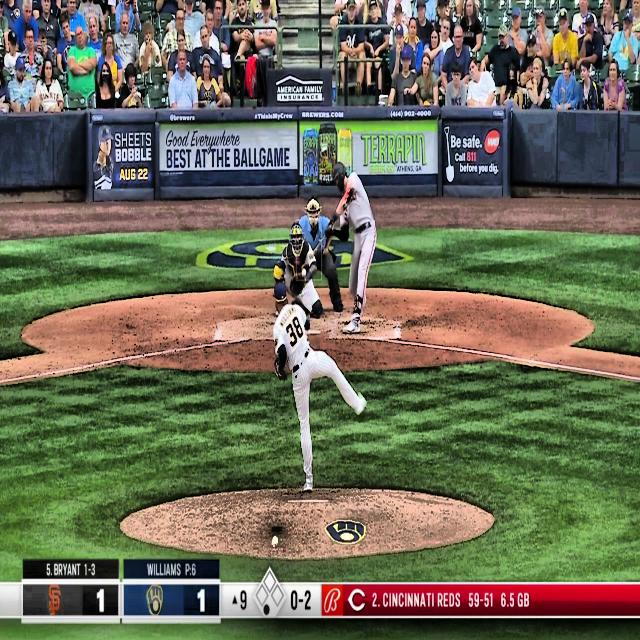baseball: (301, 268, 307, 278)
